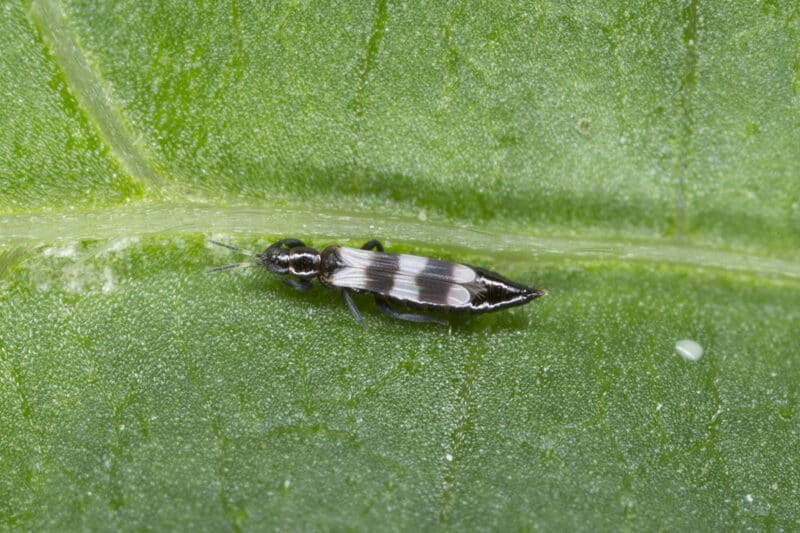Thrips: (214, 219, 568, 353)
